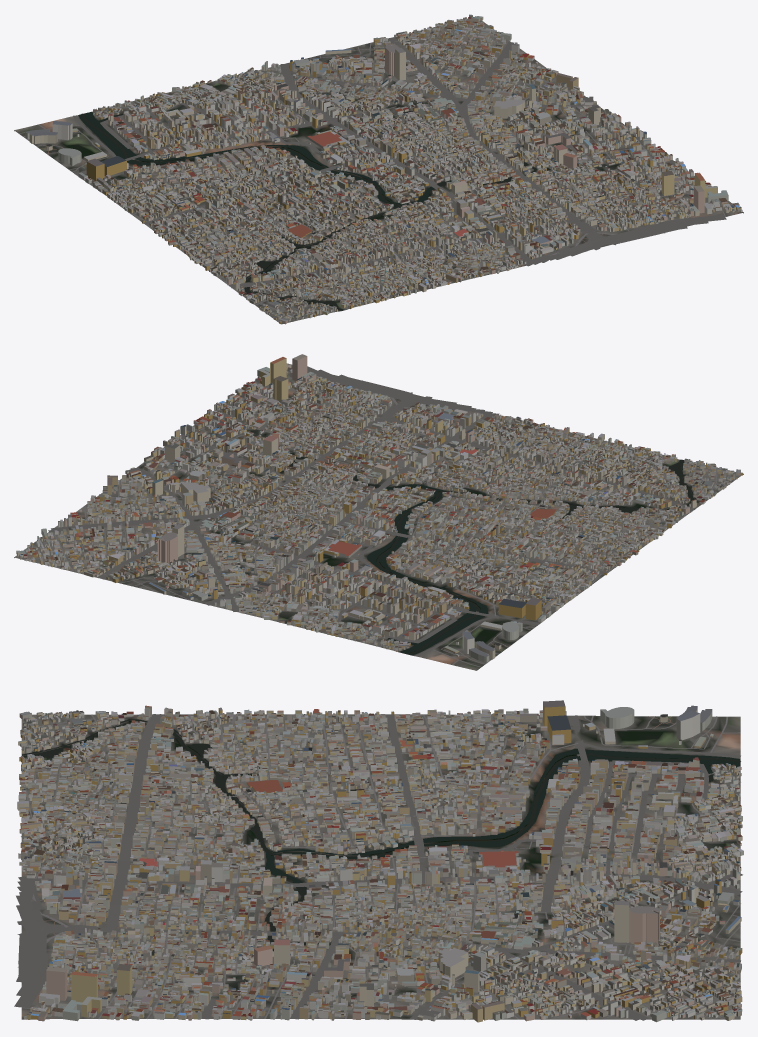
3 views of the same model, one above another, from view 1: azimuth 30°, elevation 25°; view 2: azimuth 150°, elevation 25°; view 3: azimuth 270°, elevation 25° (orthographic). The views are drawn at different scales.
Parts seen in each view (by area): view 1: buildings, ground, roads, water; view 2: buildings, ground, roads, water; view 3: buildings, ground, roads, water.
Part boxes in pixels (box(x1,y1,x2,y2)): buildings: box(25, 14, 742, 324); ground: box(14, 20, 743, 324); roads: box(19, 19, 726, 321); water: box(78, 111, 550, 310); buildings: box(16, 354, 742, 662); ground: box(14, 363, 743, 670); roads: box(23, 366, 740, 667); water: box(279, 452, 696, 655); buildings: box(17, 700, 743, 1022); ground: box(21, 714, 740, 1019); roads: box(14, 714, 742, 1020); water: box(21, 719, 740, 951).
Size of the model in its own units: 1423 by 86.95 by 1422.
